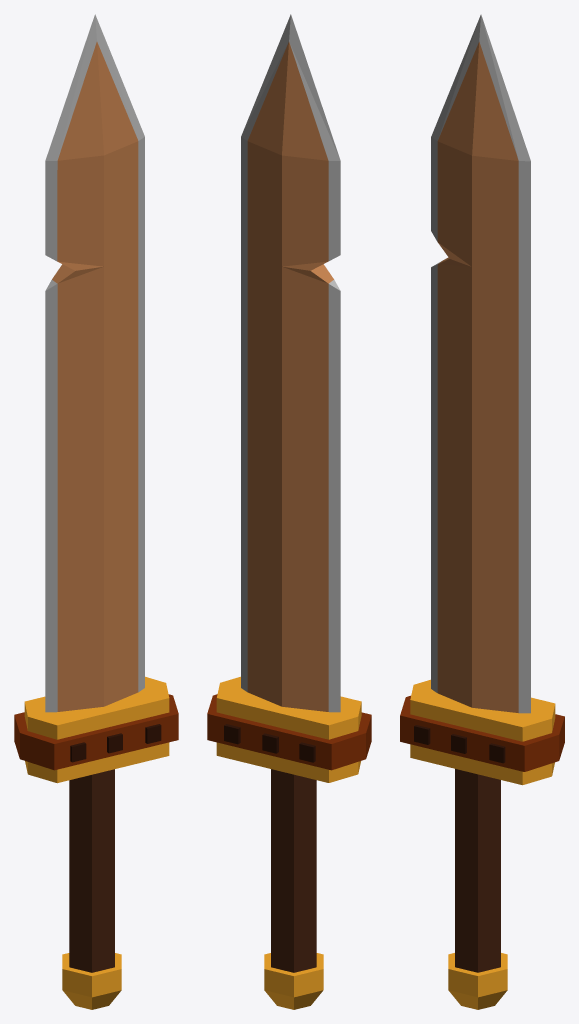
File: Sword 01.FBX
3 renders of one model, left to right at view 1: azimuth 30°, elevation 25°; view 2: azimuth 150°, elevation 25°; view 3: azimuth 330°, elevation 25°, orthographic.
Visible parts, largest first — view 1: Sword 01; view 2: Sword 01; view 3: Sword 01.
Part boxes in pixels (x1,y1,x2,y2): Sword 01: (14, 14, 178, 1009); Sword 01: (207, 14, 371, 1009); Sword 01: (400, 14, 564, 1009).
Size of the model in its own units: 20.11 by 124 by 10.06.
1 material, 1 textured.
